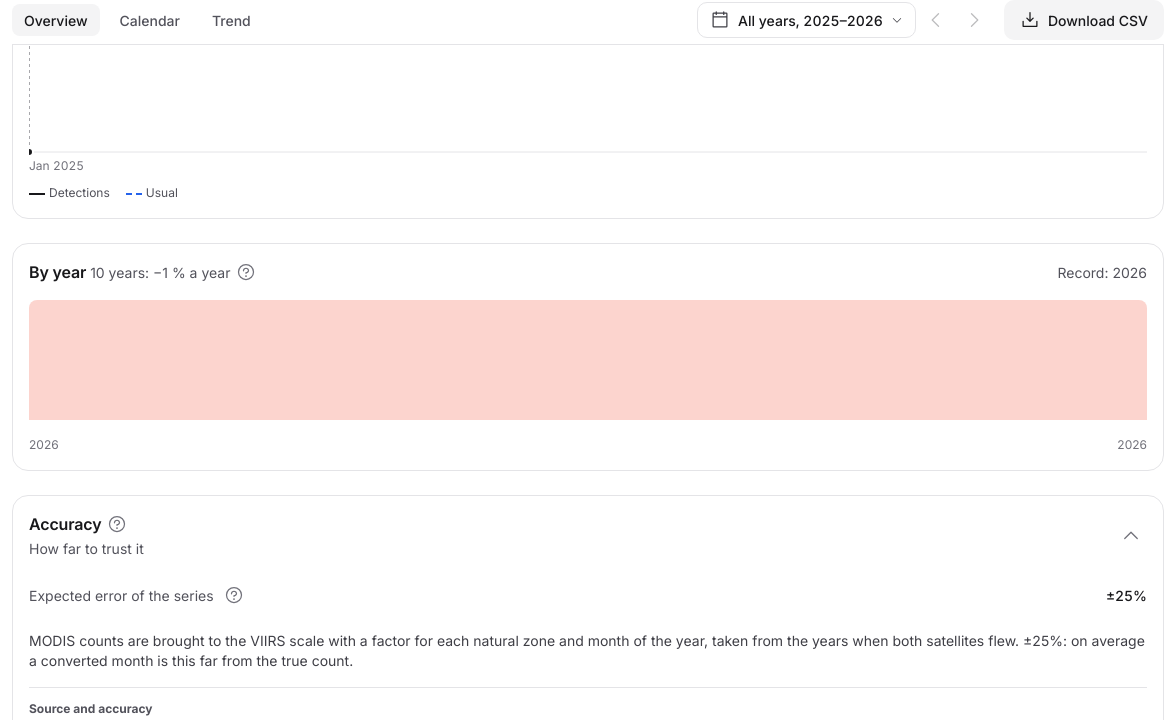
the trend of the years and the years brought from MODIS › says through which day a year that is not over is counted
(page scrolled)
Hover over the button named "2026: 2,600" at (588, 360), box [29, 300, 1147, 420]
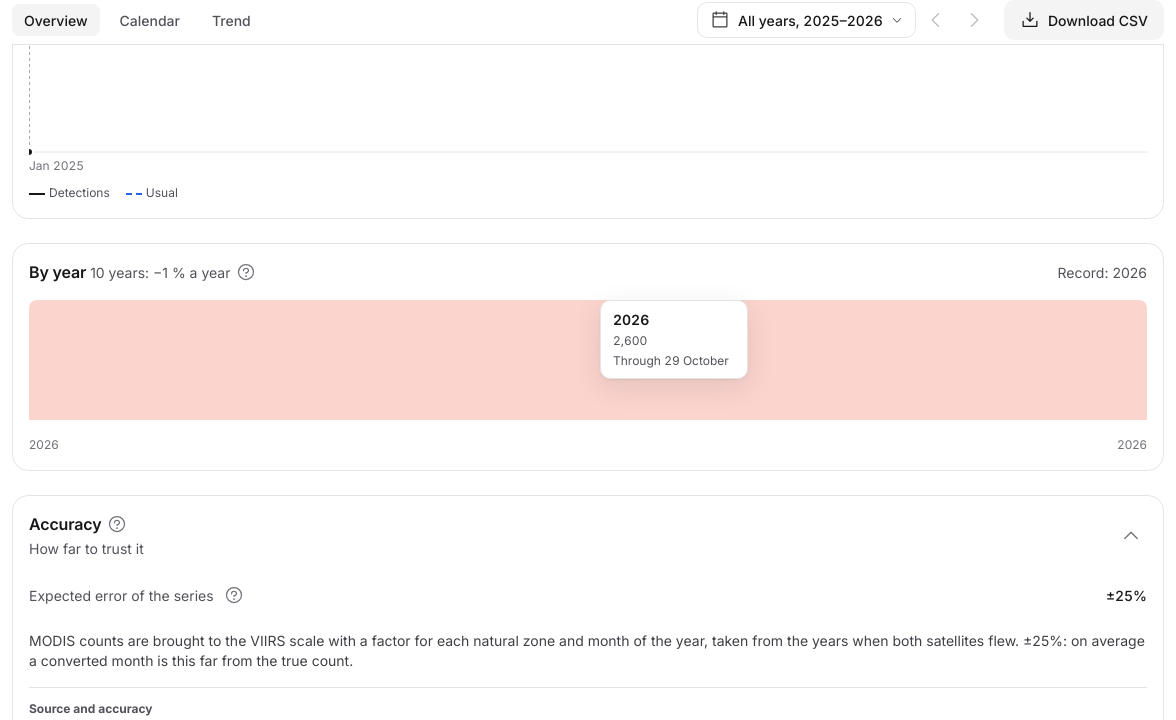
Result: the message shows "Through" at [613, 353, 729, 368]
